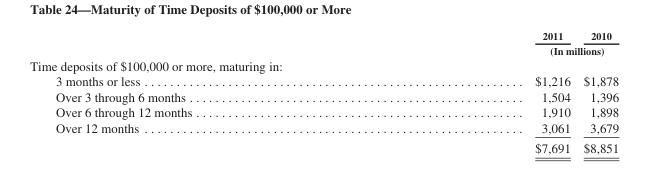table: (29, 29, 618, 155)
table column: (29, 29, 363, 155), (363, 29, 576, 155), (576, 29, 618, 155)
table column header: (29, 29, 618, 57)
table projected row header: (29, 57, 618, 72)
table row: (29, 119, 618, 137), (29, 137, 618, 155), (29, 72, 618, 88), (29, 88, 618, 104), (29, 42, 618, 57), (29, 57, 618, 72), (29, 104, 618, 119), (29, 29, 618, 42)
table spanning cell: (363, 42, 618, 57)
